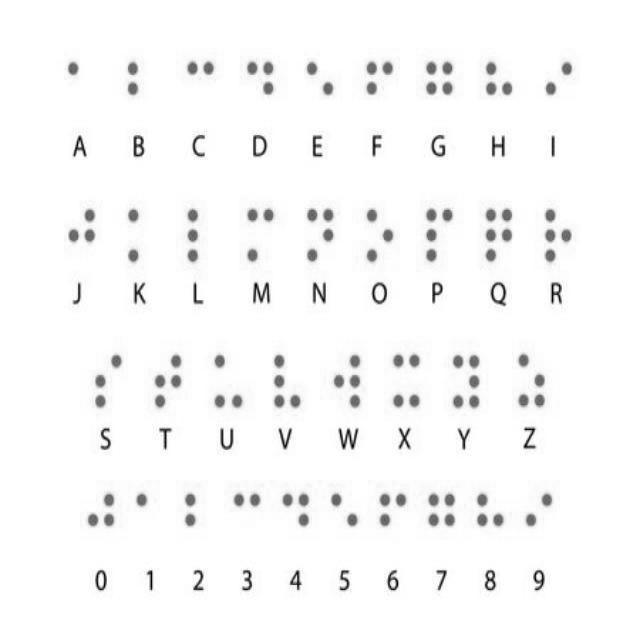braiile: (119, 52, 165, 126), (59, 52, 104, 126), (360, 194, 400, 276), (121, 198, 165, 272), (179, 198, 223, 272), (147, 344, 191, 418), (240, 197, 282, 273), (180, 48, 220, 126), (300, 52, 342, 126), (89, 344, 131, 418), (386, 343, 428, 417), (444, 344, 486, 418), (241, 48, 279, 128), (420, 198, 462, 270), (328, 341, 369, 414), (512, 343, 552, 417), (478, 196, 518, 269), (302, 196, 341, 270), (420, 52, 458, 126), (480, 50, 516, 128), (208, 345, 248, 415), (539, 51, 577, 124), (362, 50, 398, 124), (64, 199, 100, 273), (539, 198, 577, 267), (268, 344, 304, 412)
